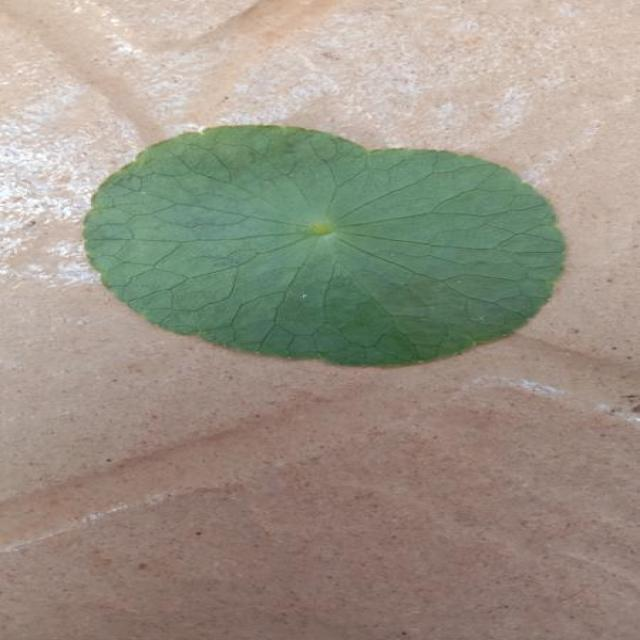bhrami: (85, 126, 565, 365)
